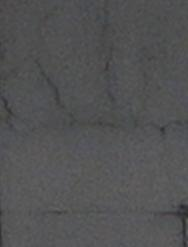fissura: (4, 58, 188, 145)
